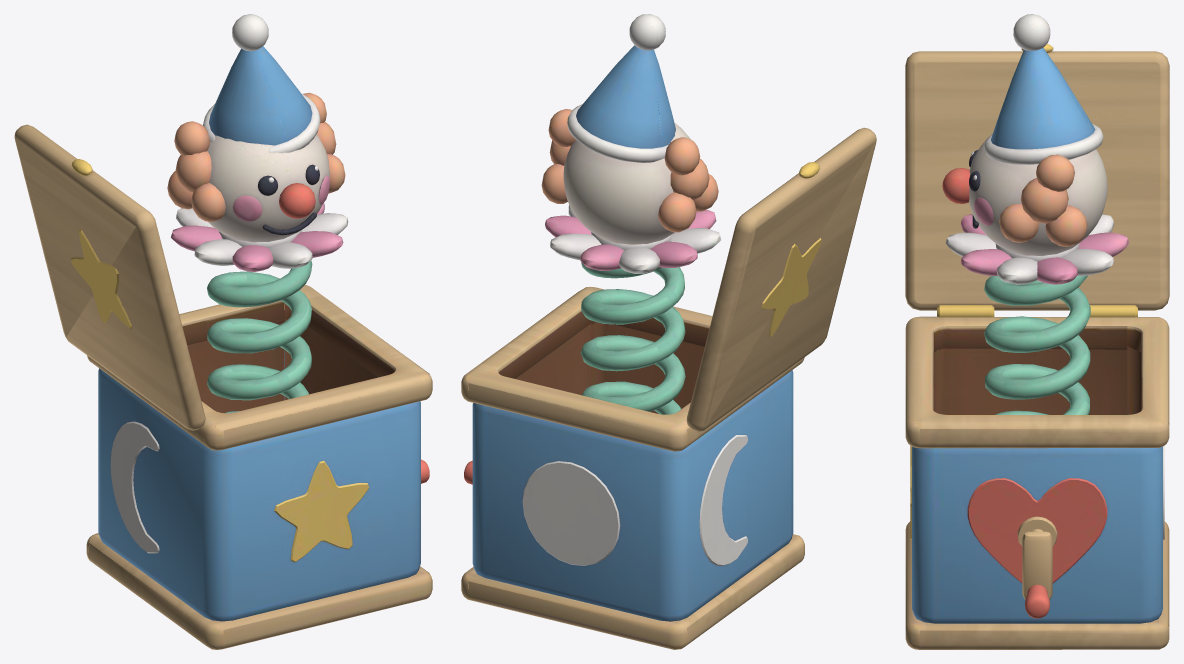
The model's file is caja_sorpresa.glb.
The picture shows the model from 3 angles, left to right: view 1: azimuth 30°, elevation 25°; view 2: azimuth 150°, elevation 25°; view 3: azimuth 270°, elevation 25°; orthographic projection.
Visible parts, largest first — view 1: jack-in-the-box_body; view 2: jack-in-the-box_body; view 3: jack-in-the-box_body.
Part boxes in pixels (left/top/right/bottom): jack-in-the-box_body: left=14, top=14, right=432, bottom=649; jack-in-the-box_body: left=461, top=14, right=876, bottom=649; jack-in-the-box_body: left=905, top=14, right=1169, bottom=649.
Bounding box in the file's own units: 0.2288 × 0.3539 × 0.1473.
Materials: 4 (2 with a texture image).
